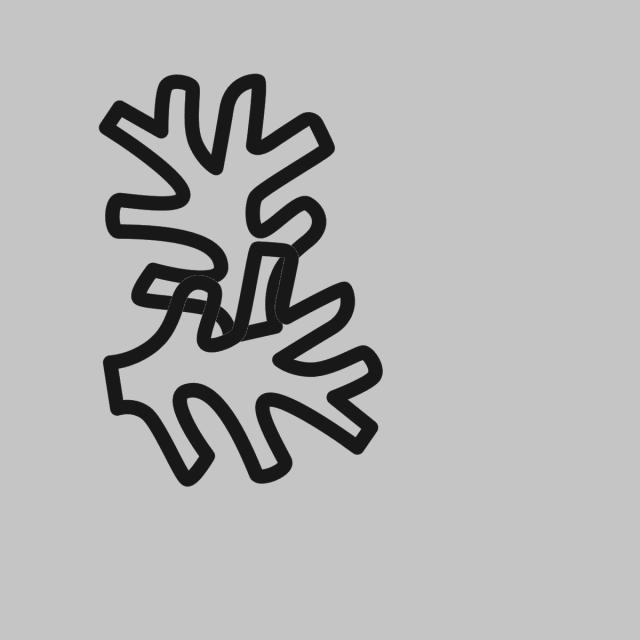coral: (98, 236, 398, 498), (86, 58, 347, 349)
